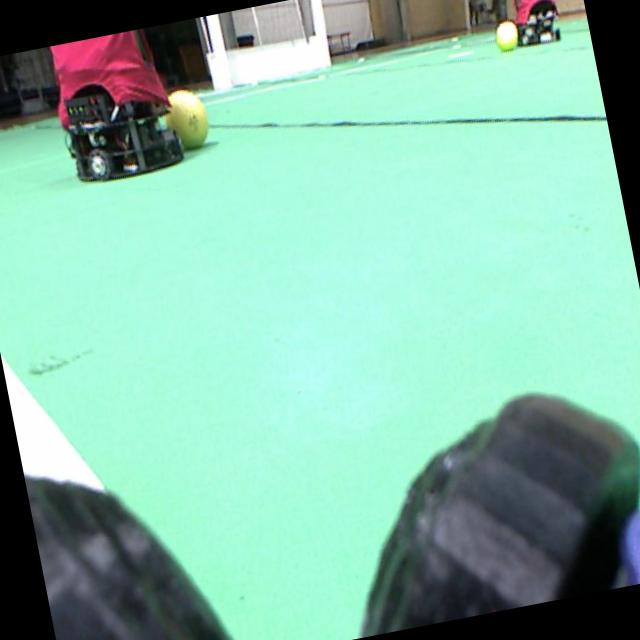ball: (166, 90, 208, 148), (496, 20, 517, 50)
goal: (206, 14, 232, 88), (311, 0, 330, 66)
